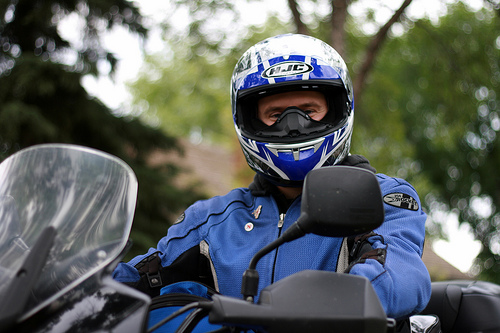helmet: (229, 47, 363, 171)
